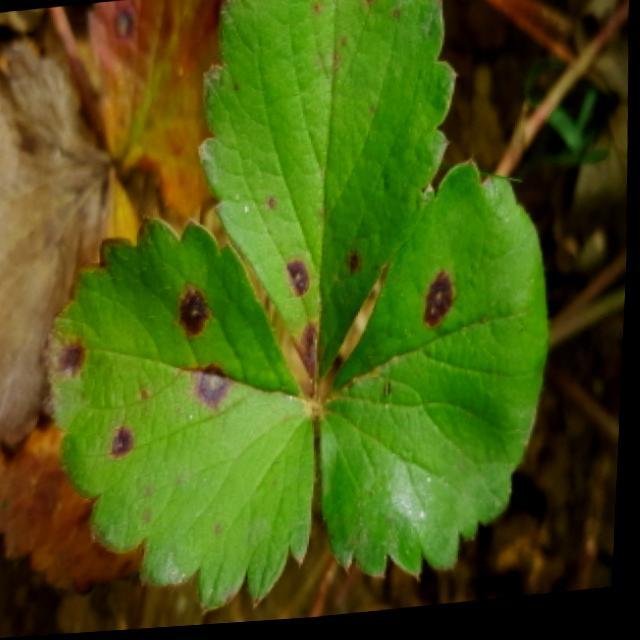Leaf Spot: (43, 217, 319, 618), (194, 0, 457, 391), (320, 165, 554, 589), (82, 0, 231, 246)
